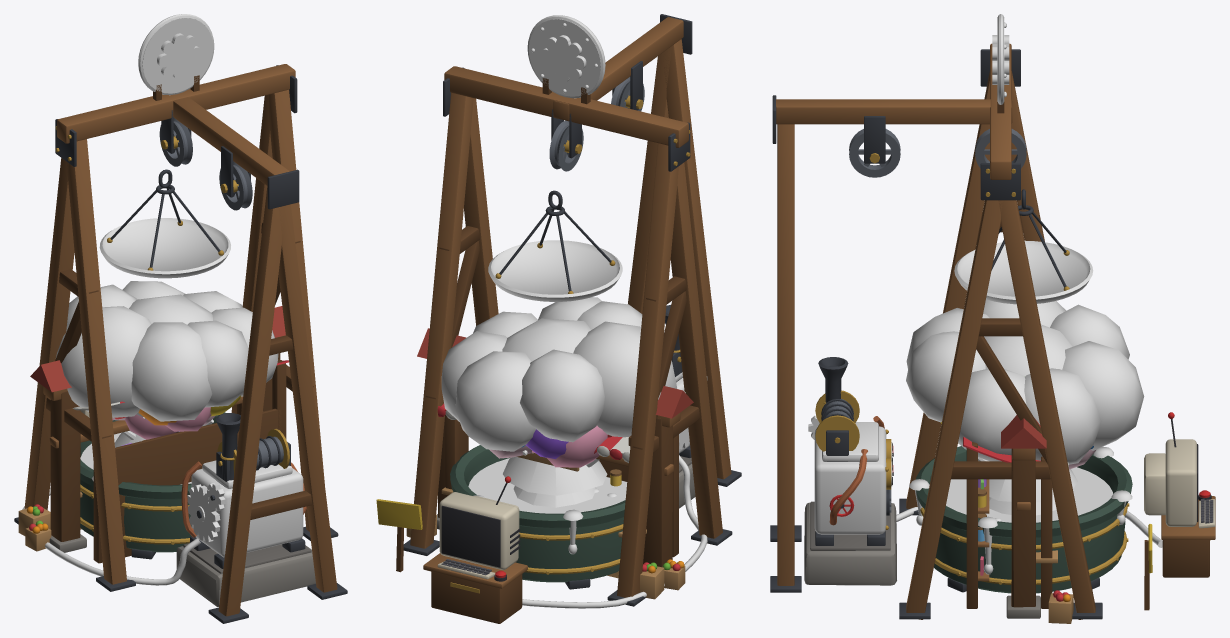
Rendered from MathMoney_All.fbx.
3 renders of one model, left to right at view 1: azimuth 30°, elevation 25°; view 2: azimuth 150°, elevation 25°; view 3: azimuth 270°, elevation 25°, orthographic. The views are drawn at different scales.
Parts seen in each view (by area): view 1: Apparatus__FrameWood, OakTree__Leaves, ShopStall__Wood, GateArch__Arch, Apparatus__Platter, Apparatus__Vat, Apparatus__EnginePlinth, Apparatus__EngineBody, Apparatus__FrameMetal, Apparatus__SignBoard, Apparatus__EngineTrim, Apparatus__Gear (+10 smaller); view 2: Apparatus__FrameWood, OakTree__Leaves, Apparatus__Vat, Apparatus__Platter, Apparatus__ConsoleMonitor, GateArch__Arch, Apparatus__ConsoleDesk, PineTree__Needles, Apparatus__FrameMetal, ShopStall__Wood, Apparatus__SignBoard, Apparatus__Acid (+12 smaller); view 3: Apparatus__FrameWood, OakTree__Leaves, Apparatus__Vat, Apparatus__EngineBody, GateArch__Arch, Apparatus__EnginePlinth, Apparatus__ConsoleMonitor, Apparatus__FrameMetal, Apparatus__Platter, ShopStall__Wood, Apparatus__ConsoleDesk, Apparatus__EngineTrim (+10 smaller).
Part boxes in pixels (box(x1,y1,x2,y2)): Apparatus__FrameWood: box(24, 64, 337, 616); OakTree__Leaves: box(55, 281, 278, 421); ShopStall__Wood: box(18, 360, 286, 563); GateArch__Arch: box(30, 306, 285, 552); Apparatus__Platter: box(99, 218, 230, 278); Apparatus__Vat: box(80, 412, 226, 559); Apparatus__EnginePlinth: box(176, 543, 315, 606); Apparatus__EngineBody: box(191, 460, 303, 557); Apparatus__FrameMetal: box(14, 65, 347, 623); Apparatus__SignBoard: box(142, 18, 213, 93); Apparatus__EngineTrim: box(181, 442, 306, 568); Apparatus__Gear: box(187, 484, 220, 542); Apparatus__FrameWood: box(410, 17, 731, 597); OakTree__Leaves: box(441, 297, 676, 453); Apparatus__Vat: box(450, 445, 625, 589); Apparatus__Platter: box(488, 240, 622, 301); Apparatus__ConsoleMonitor: box(437, 476, 520, 581); GateArch__Arch: box(417, 328, 693, 567); Apparatus__ConsoleDesk: box(423, 553, 527, 623); PineTree__Needles: box(503, 456, 607, 507); Apparatus__FrameMetal: box(403, 14, 741, 606); ShopStall__Wood: box(406, 415, 685, 599); Apparatus__SignBoard: box(528, 19, 600, 96); Apparatus__Acid: box(468, 458, 627, 513); Apparatus__FrameWood: box(776, 43, 1095, 619); OakTree__Leaves: box(906, 299, 1144, 464); Apparatus__Vat: box(916, 446, 1132, 593); Apparatus__EngineBody: box(814, 422, 886, 534); GateArch__Arch: box(1001, 415, 1046, 618); Apparatus__EnginePlinth: box(804, 501, 896, 585); Apparatus__ConsoleMonitor: box(1144, 412, 1215, 528); Apparatus__FrameMetal: box(770, 49, 1102, 619); Apparatus__Platter: box(954, 240, 1093, 304); ShopStall__Wood: box(966, 442, 1073, 623); Apparatus__ConsoleDesk: box(1161, 496, 1215, 577); Apparatus__EngineTrim: box(815, 416, 891, 545).
Size of the model in its own units: 21.68 by 42.95 by 31.1.
